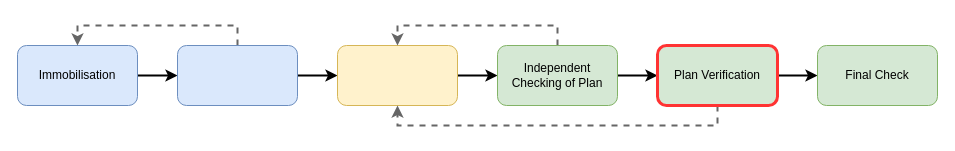
This 955x151 diagram has some shape labels left out. The centre of each missing label's shape, as x and y in pixels:
Treatment Plan Created: the point at 397,75
Treatment Planning Scan: the point at 237,75
